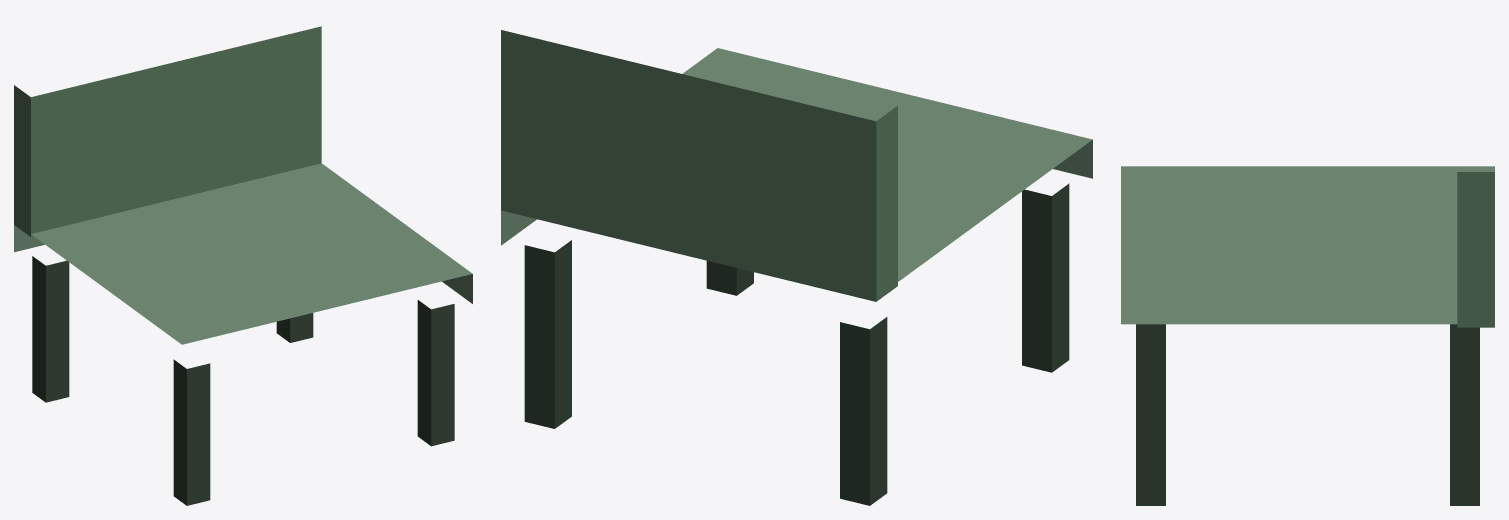
The model's file is Chair-green.glb.
The picture shows the model from 3 angles, left to right: view 1: azimuth 30°, elevation 25°; view 2: azimuth 150°, elevation 25°; view 3: azimuth 270°, elevation 25°; orthographic projection. The views are drawn at different scales.
Visible parts, largest first — view 1: Chair; view 2: Chair; view 3: Chair.
Boxes of the visible parts, <box> form: Chair: <box>14,26,472,505</box>; Chair: <box>501,30,1092,505</box>; Chair: <box>1121,166,1494,505</box>.
Size of the model in its own units: 1 by 1 by 1.
